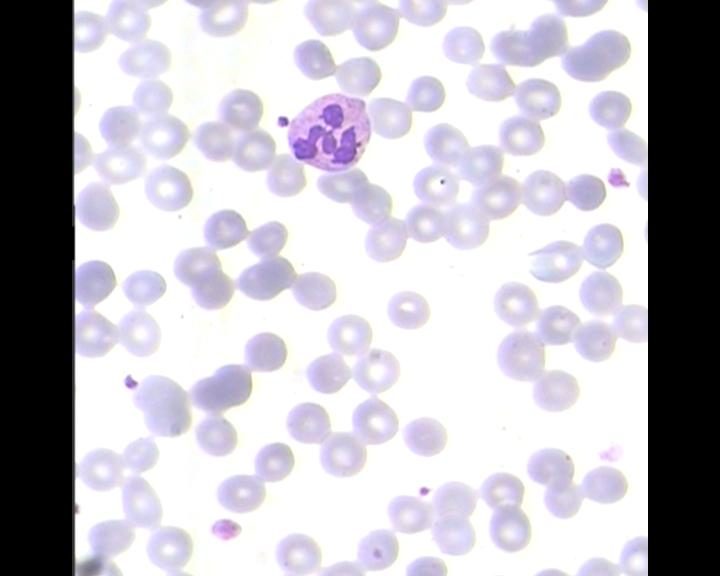neut: (284, 91, 377, 173)
